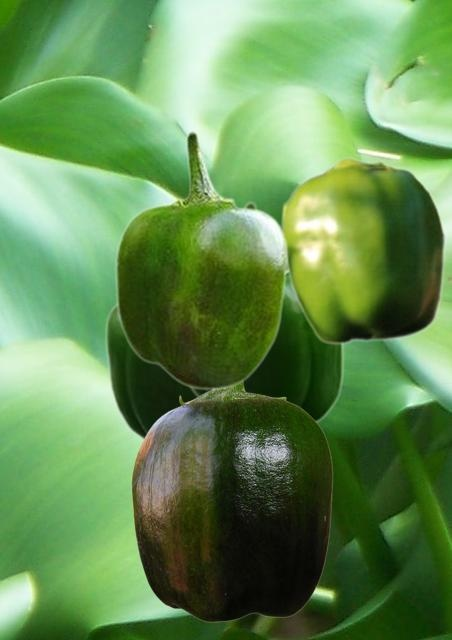bell_pepper: (131, 383, 332, 621), (114, 130, 288, 390), (189, 200, 344, 423), (280, 156, 445, 344), (104, 304, 194, 440)
